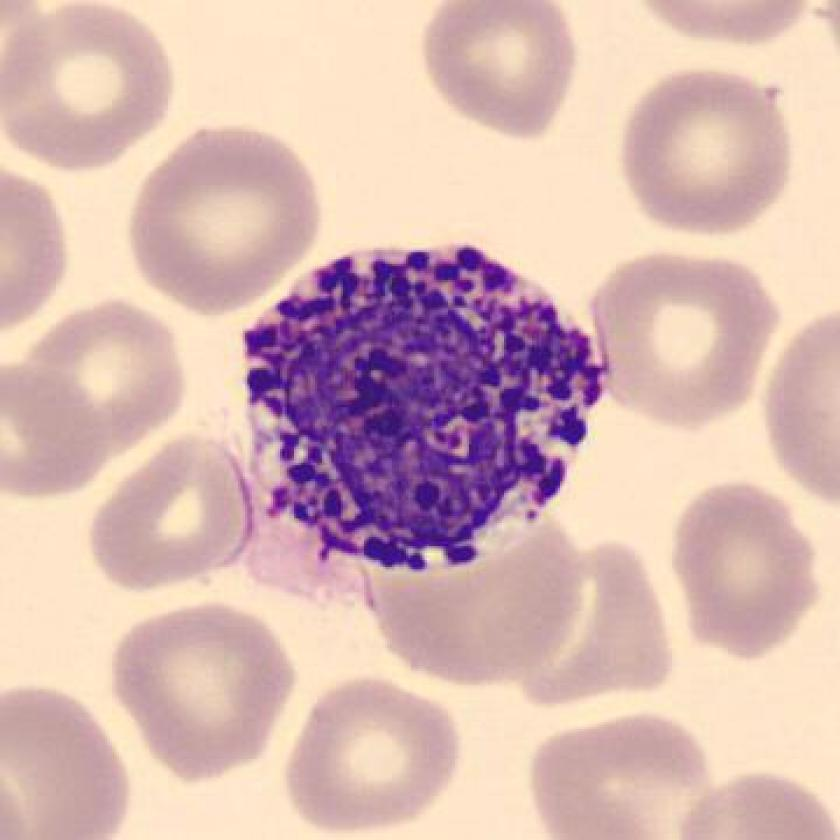basophil: (244, 240, 610, 573)
